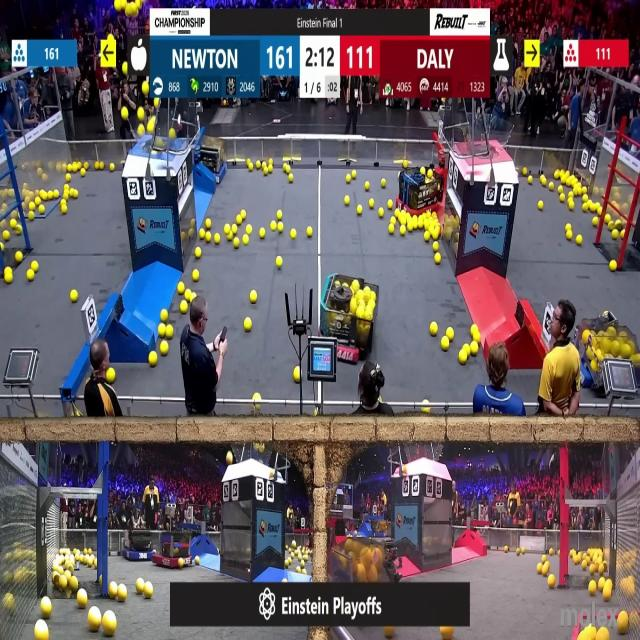ball_airborne: (141, 80, 149, 95), (137, 107, 145, 120), (226, 451, 233, 465), (137, 123, 145, 135), (168, 127, 176, 138), (122, 61, 128, 75), (121, 108, 128, 119), (154, 97, 160, 108), (114, 0, 120, 11), (107, 33, 115, 40), (135, 0, 141, 9), (268, 469, 274, 478), (258, 443, 265, 450)
ball_ground: (102, 610, 117, 637), (88, 606, 101, 632), (33, 618, 48, 640), (617, 610, 629, 634), (577, 625, 595, 640), (40, 596, 52, 618), (76, 588, 88, 609), (595, 625, 610, 640), (602, 579, 612, 601), (440, 625, 454, 640), (69, 575, 79, 593), (143, 581, 153, 599), (117, 584, 127, 602), (108, 581, 118, 599), (135, 577, 145, 594), (56, 573, 66, 590), (252, 392, 261, 410), (383, 625, 395, 638), (148, 351, 158, 366), (458, 350, 468, 364), (107, 367, 115, 383), (244, 316, 252, 332), (589, 579, 597, 595), (429, 321, 438, 335), (421, 398, 430, 412), (65, 559, 74, 573), (63, 584, 72, 598), (472, 327, 480, 342), (548, 573, 556, 588), (160, 340, 168, 354), (160, 308, 168, 322), (446, 327, 454, 341), (470, 340, 478, 354), (598, 577, 606, 591), (542, 562, 550, 576), (608, 260, 618, 271), (249, 290, 257, 303), (194, 246, 202, 259), (180, 299, 187, 313), (184, 289, 192, 301), (294, 366, 300, 382), (441, 336, 448, 349), (70, 290, 78, 301), (462, 344, 470, 355), (26, 269, 34, 280), (159, 323, 165, 337), (166, 324, 172, 338), (192, 269, 199, 281), (276, 255, 282, 269), (601, 560, 608, 572), (536, 562, 543, 574), (470, 325, 478, 335), (4, 273, 12, 283), (15, 252, 23, 262), (2, 230, 10, 240), (573, 554, 581, 564), (178, 282, 185, 293), (31, 261, 38, 272), (205, 230, 211, 242), (61, 202, 67, 214), (578, 184, 584, 196), (589, 563, 595, 575), (213, 233, 220, 243), (269, 220, 276, 230), (615, 220, 622, 230), (541, 554, 548, 564), (224, 223, 230, 234), (277, 221, 283, 232), (424, 230, 430, 241), (568, 199, 574, 210), (596, 205, 602, 216), (83, 555, 89, 566), (284, 558, 290, 569), (4, 266, 12, 274), (15, 225, 22, 234), (191, 292, 197, 302), (199, 228, 205, 238), (205, 218, 211, 228), (233, 237, 239, 247), (243, 234, 249, 244), (260, 228, 266, 238), (290, 228, 296, 238), (306, 226, 312, 236), (276, 210, 282, 220), (345, 173, 351, 183), (356, 204, 362, 214), (387, 199, 393, 209), (388, 224, 394, 234), (434, 253, 440, 263), (433, 241, 439, 251), (10, 218, 16, 228), (553, 169, 559, 179), (582, 192, 588, 202), (590, 202, 596, 212), (604, 213, 610, 223), (608, 220, 614, 230), (559, 170, 565, 180), (567, 194, 573, 204), (570, 548, 576, 558), (194, 555, 200, 565), (178, 558, 184, 568), (576, 234, 582, 243), (566, 231, 572, 240), (246, 225, 252, 234), (537, 200, 543, 209), (592, 217, 598, 226), (560, 174, 566, 183), (572, 187, 578, 196), (236, 214, 241, 224), (565, 222, 571, 230), (227, 232, 233, 240), (240, 210, 246, 218), (380, 178, 386, 186), (399, 226, 405, 234), (548, 182, 554, 190), (28, 210, 34, 218), (29, 202, 35, 210), (35, 196, 41, 204), (66, 164, 72, 172), (612, 230, 618, 238), (582, 202, 588, 210), (595, 202, 601, 210), (62, 191, 68, 199), (93, 556, 97, 568), (558, 184, 563, 193), (549, 547, 554, 556), (297, 552, 302, 561), (522, 167, 528, 174), (38, 205, 44, 212), (344, 196, 349, 204), (369, 198, 373, 208), (379, 207, 383, 217), (527, 175, 532, 183), (582, 186, 587, 194), (246, 158, 251, 166), (521, 546, 526, 554), (504, 545, 509, 553), (292, 540, 296, 550), (99, 574, 102, 587), (263, 168, 267, 177), (516, 547, 520, 556), (48, 191, 53, 198), (288, 174, 292, 182), (365, 182, 369, 190), (110, 162, 114, 170), (249, 162, 253, 170), (54, 190, 58, 198), (621, 230, 625, 238), (64, 184, 69, 190), (232, 225, 236, 232), (352, 170, 356, 177), (403, 160, 407, 167), (560, 194, 564, 201), (100, 161, 104, 168), (94, 162, 98, 169), (81, 169, 85, 176), (268, 165, 272, 172), (256, 161, 260, 168), (66, 173, 70, 180), (84, 162, 88, 169), (88, 548, 92, 555), (558, 549, 561, 557)
goal: (456, 114, 512, 154), (128, 110, 182, 141)
robot_blue: (574, 312, 640, 386), (334, 518, 398, 586), (196, 135, 226, 182), (121, 530, 155, 559)
robot_red: (320, 273, 378, 363), (393, 164, 442, 216), (153, 532, 193, 569)
